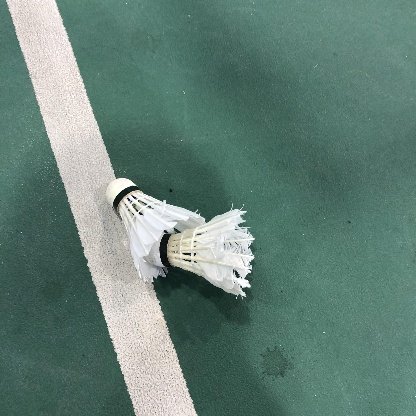ball_single: (106, 177, 255, 297)
